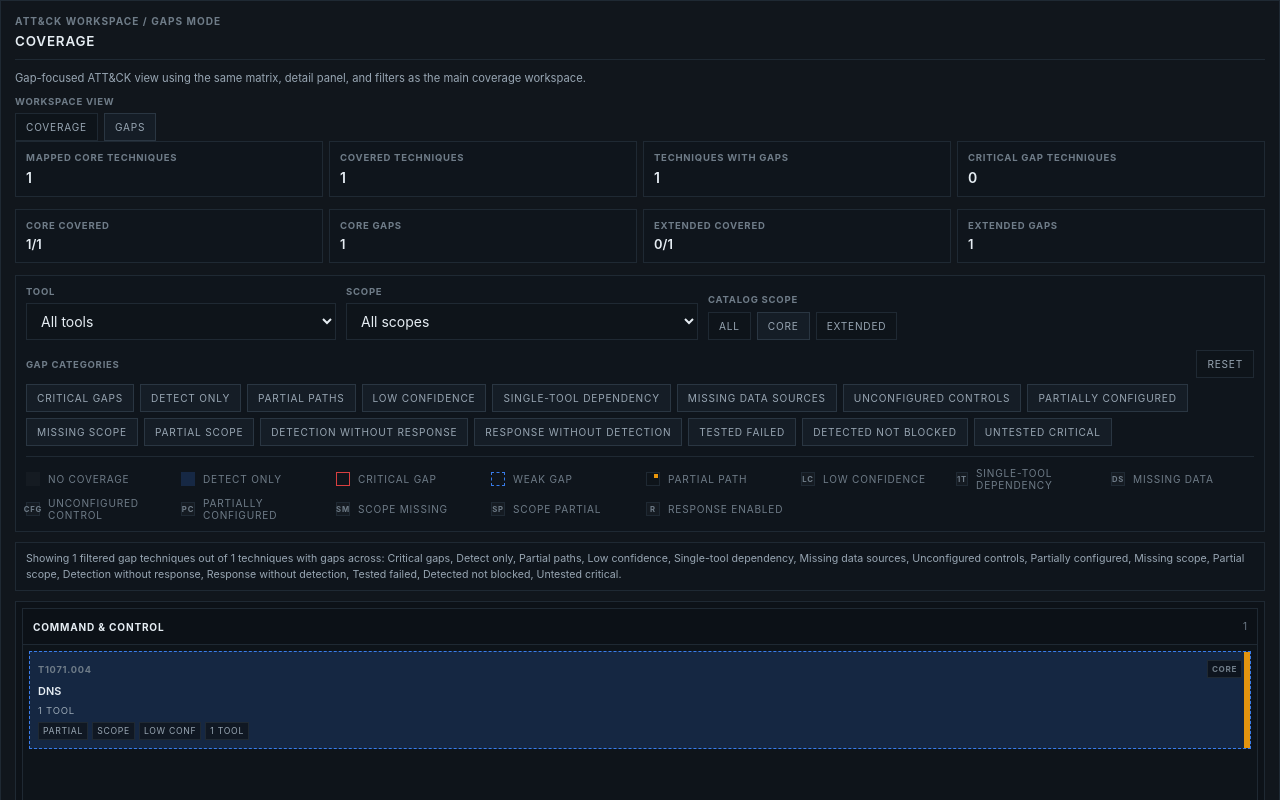
Test: GapsPage › filters the gap matrix by selected gap categories
Expected: the text "DNS" is shown, [38,684,61,698]
Expected: the text "Exploit Public-Facing Application" is not shown
Click the button "all" at coordinates (729, 326), box [708,312,751,340]
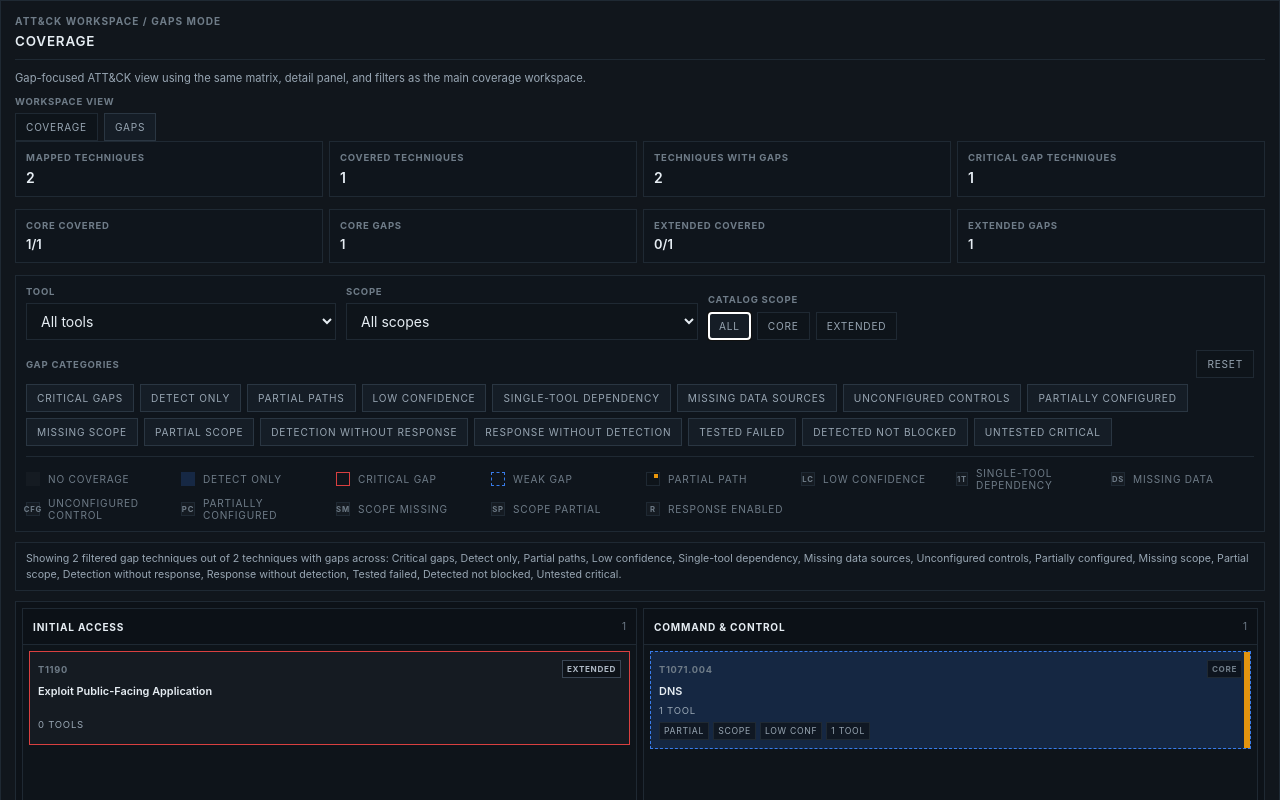
Expected: the text "DNS" is shown, [659,684,682,698]
Expected: the text "Exploit Public-Facing Application" is shown, [38,684,212,698]
Click the button "Detect only" at coordinates (191, 398), box [140,384,241,412]
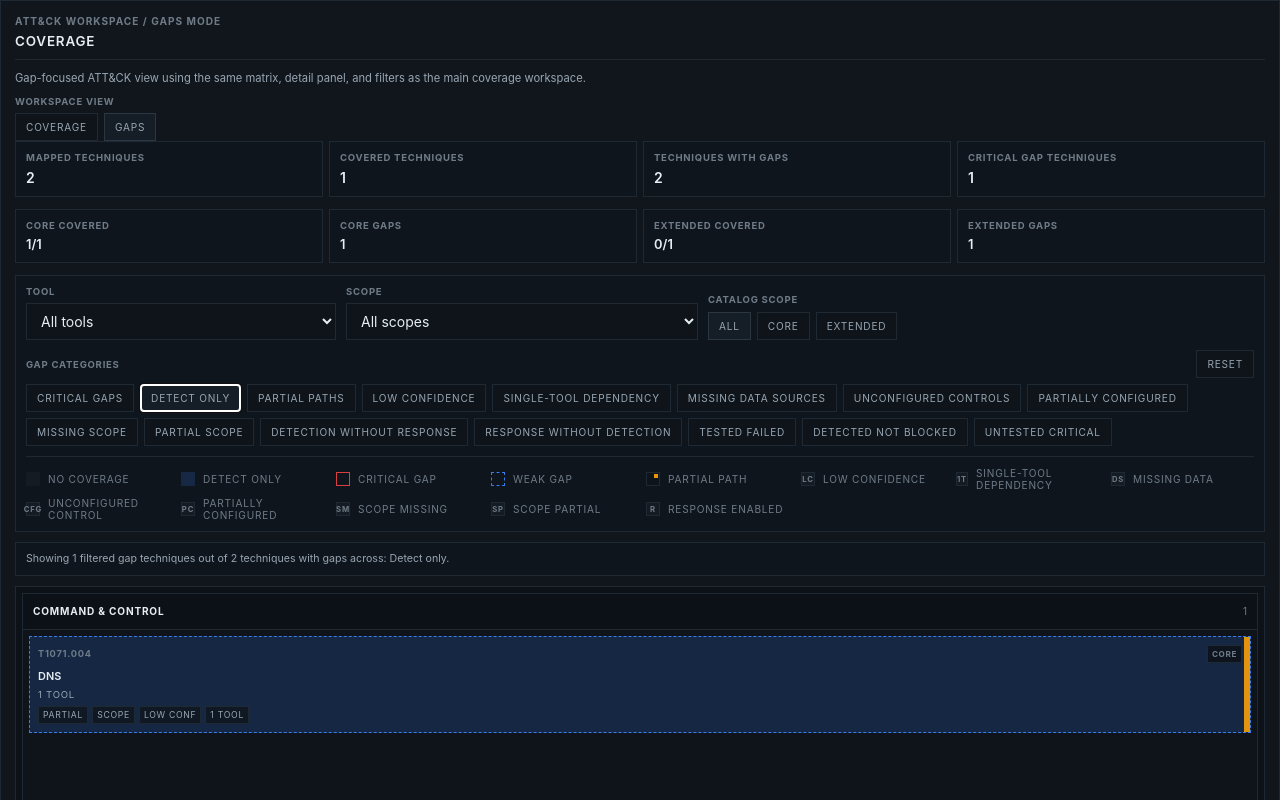
Expected: the text "DNS" is shown, [38,669,61,683]
Expected: the button "Exploit Public-Facing Application" is gone
Click the button "reset" at coordinates (1225, 364), box [1196,350,1254,378]
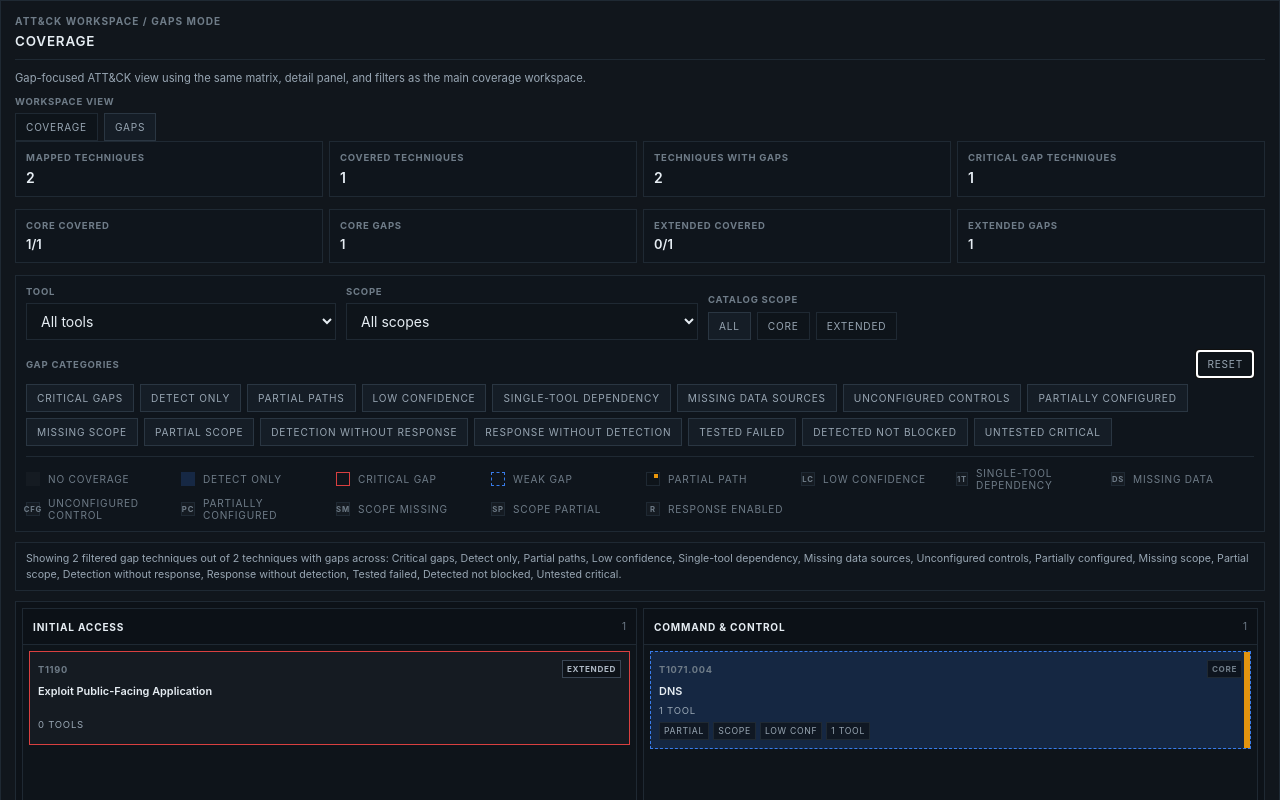
Click the button "Critical gaps" at coordinates (80, 398), box [26,384,134,412]
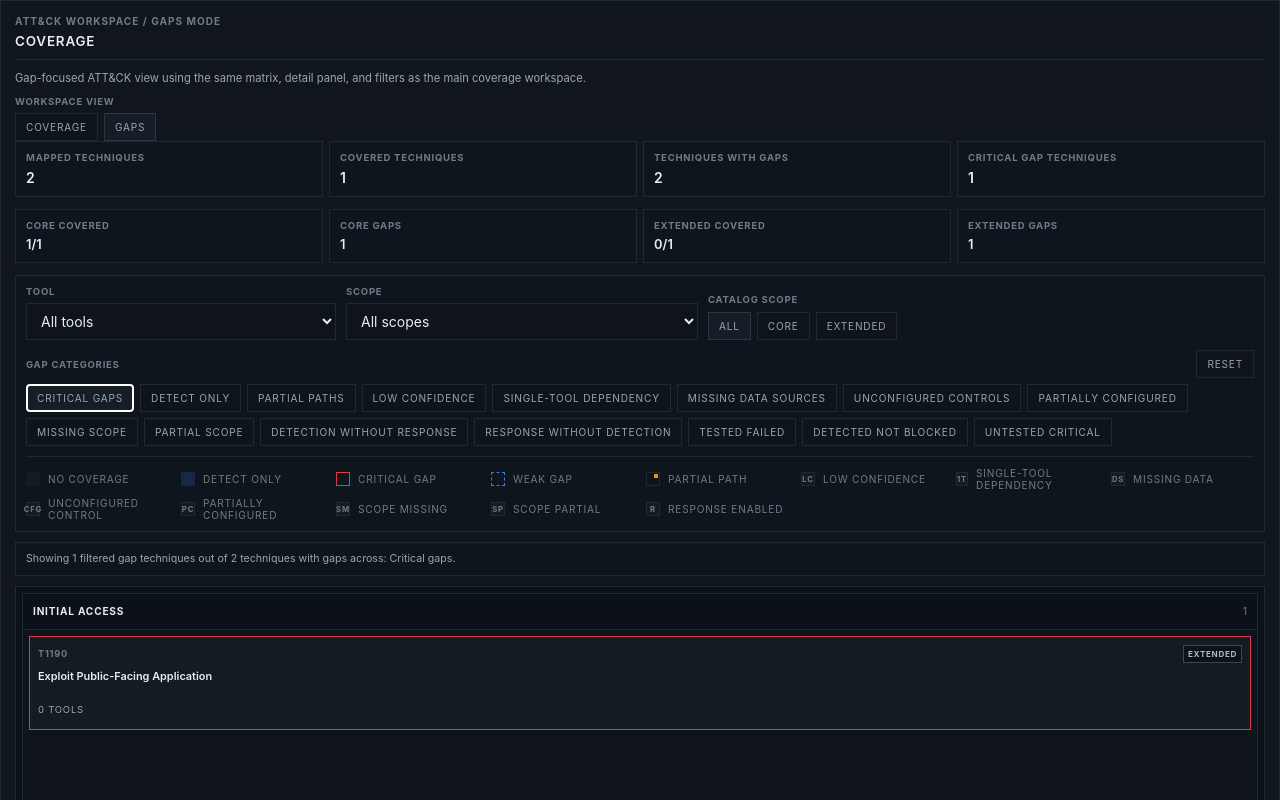
Expected: the text "Exploit Public-Facing Application" is shown, [38,669,212,683]
Expected: the button "DNS" is gone
